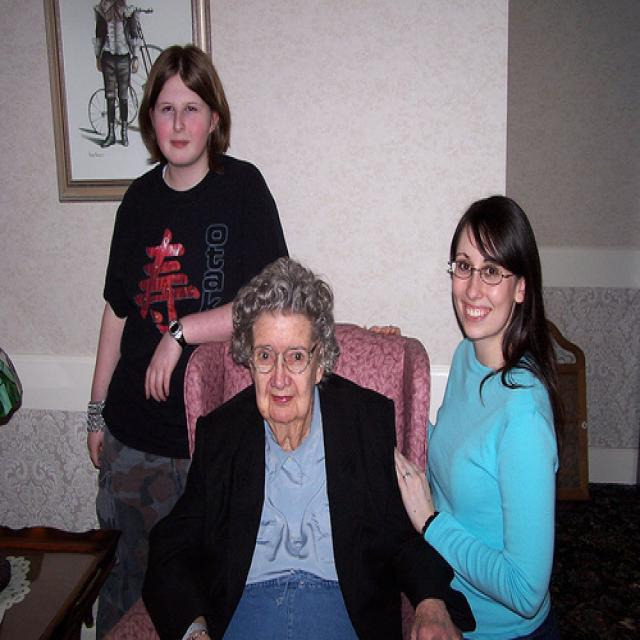chair: (104, 322, 429, 639)
person: (145, 261, 478, 640), (97, 44, 293, 639), (394, 196, 562, 639)
